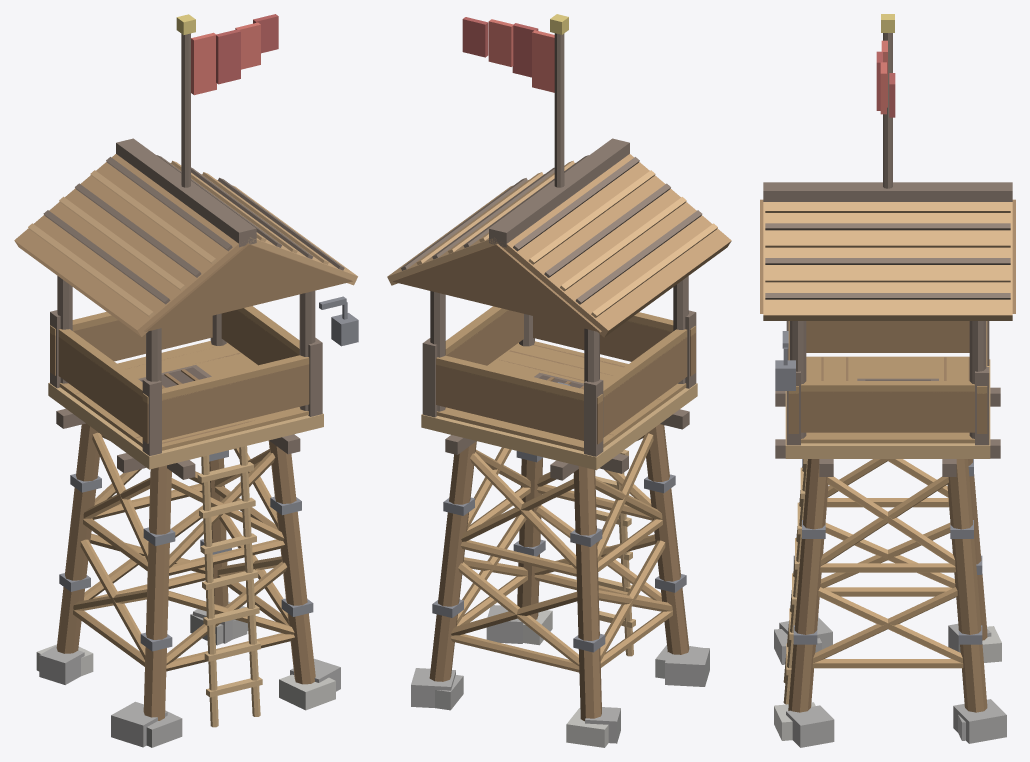
Rendered from ws_watch_tower_cheap.glb.
3 renders of one model, left to right at view 1: azimuth 30°, elevation 25°; view 2: azimuth 150°, elevation 25°; view 3: azimuth 270°, elevation 25°, orthographic.
Parts seen in each view (by area): view 1: ws_watch_tower_cheap; view 2: ws_watch_tower_cheap; view 3: ws_watch_tower_cheap.
Boxes of the visible parts, <box> form: ws_watch_tower_cheap: <box>14,14,358,747</box>; ws_watch_tower_cheap: <box>387,14,731,747</box>; ws_watch_tower_cheap: <box>760,14,1015,747</box>.
Bounding box in the file's own units: 1.3 × 3.65 × 1.25.
